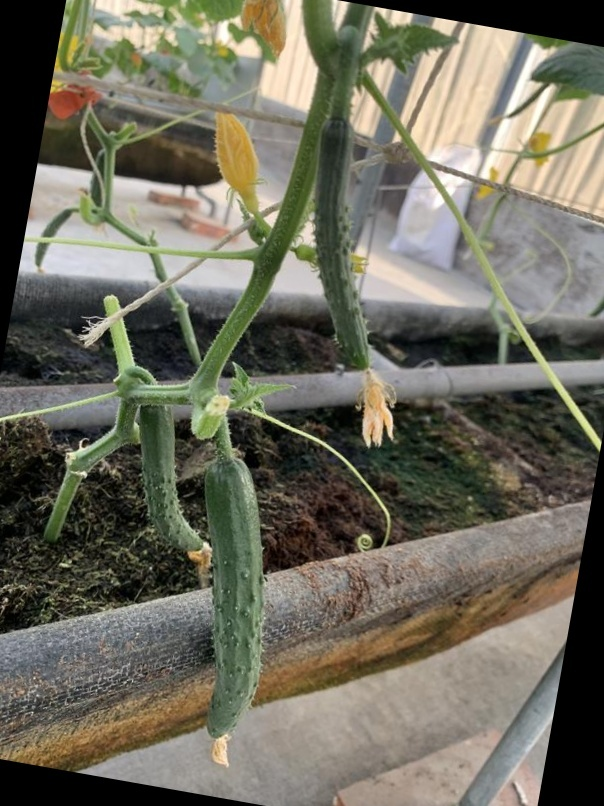growth: (190, 450, 281, 762), (307, 107, 386, 395)
